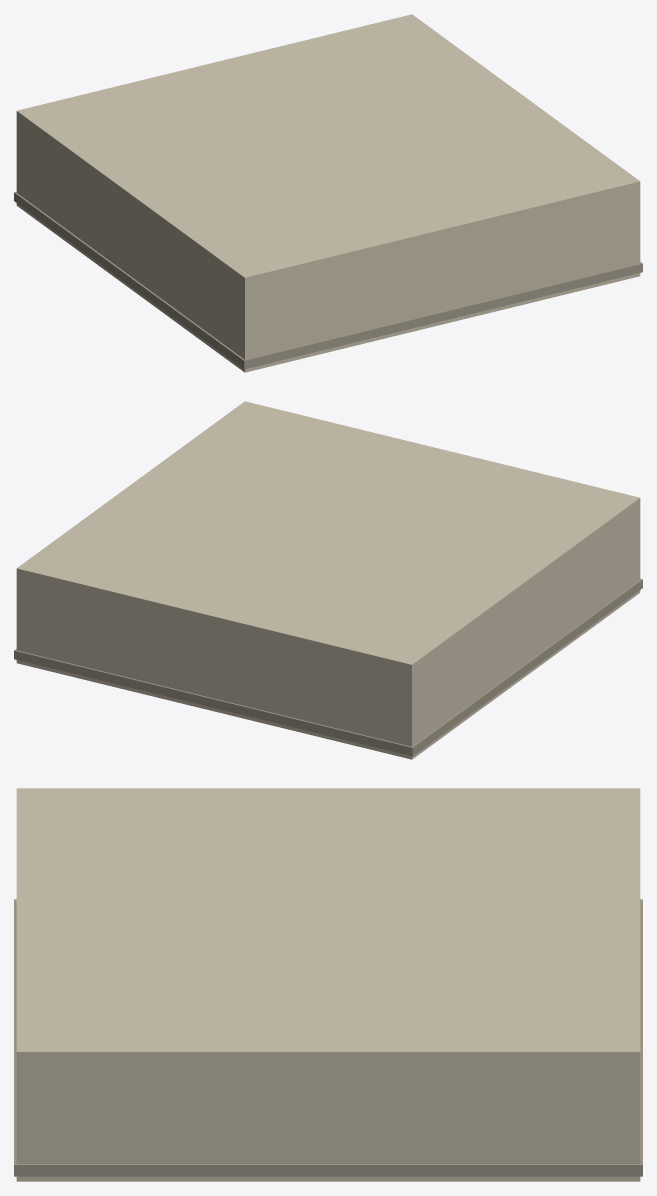
The model's file is tw_deco_24_crown_lod1.glb.
The picture shows the model from 3 angles, top to bottom: view 1: azimuth 30°, elevation 25°; view 2: azimuth 150°, elevation 25°; view 3: azimuth 270°, elevation 25°; orthographic projection. The views are drawn at different scales.
Visible parts, largest first — view 1: tw_deco_24_crown_lod1; view 2: tw_deco_24_crown_lod1; view 3: tw_deco_24_crown_lod1.
Boxes of the visible parts, x1,y1,x2,y2 form: tw_deco_24_crown_lod1: (14,14,642,372); tw_deco_24_crown_lod1: (14,401,642,759); tw_deco_24_crown_lod1: (14,788,642,1181).
Bounding box in the file's own units: 24.2 × 5.5 × 24.2.
2 materials, 2 textured.
